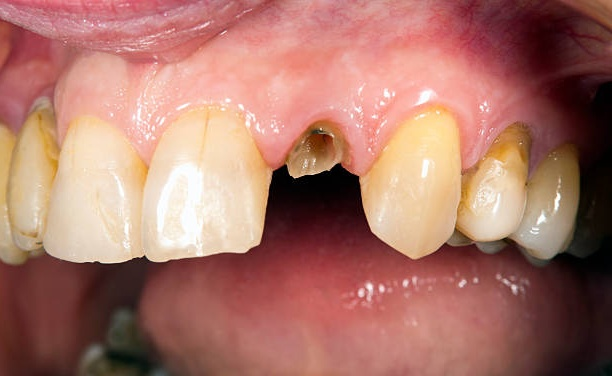Caries: (273, 114, 368, 184)
